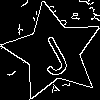J: (28, 27, 74, 79)
